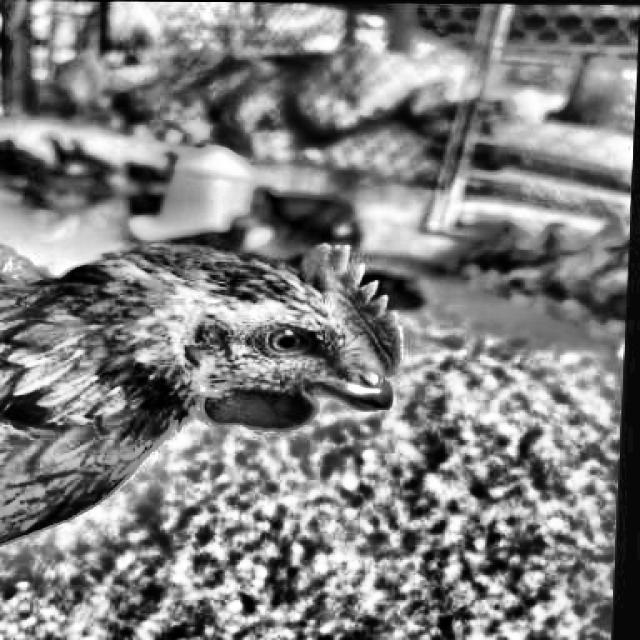Healthy: (246, 310, 326, 378)
